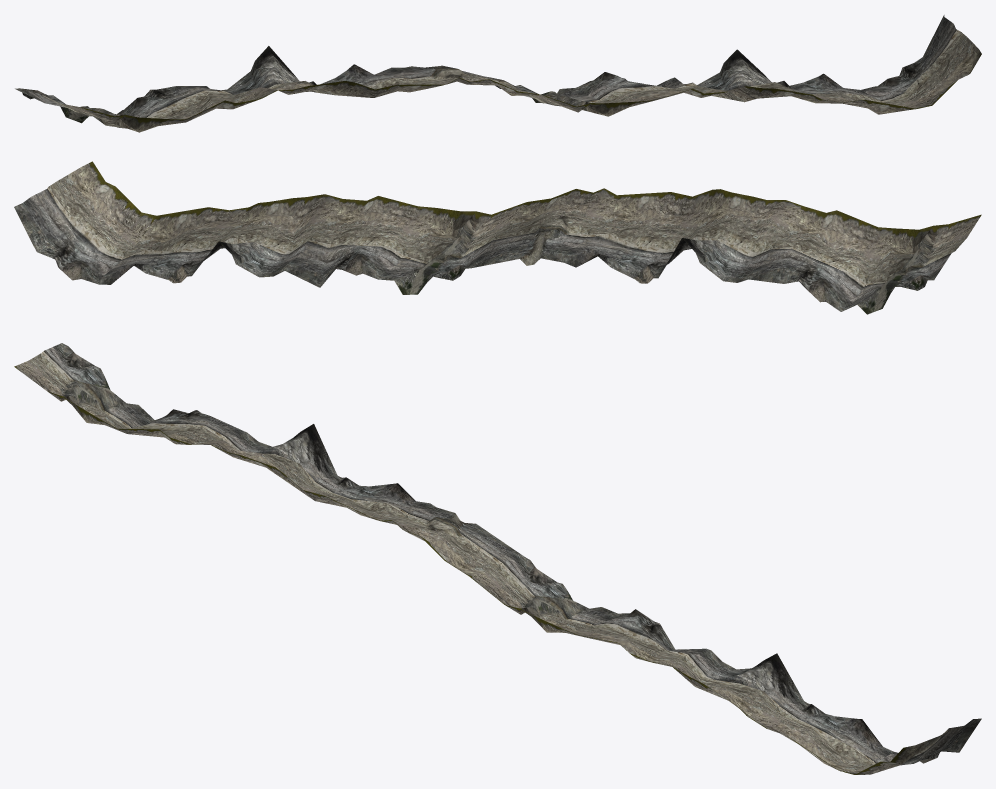
The model's file is cliff06.glb.
3 views of the same model, one above another, from view 1: azimuth 30°, elevation 25°; view 2: azimuth 150°, elevation 25°; view 3: azimuth 330°, elevation 25° (orthographic).
Bounding box in the file's own units: 10650 × 2560 × 1172.
Materials: 5 (5 with a texture image).
